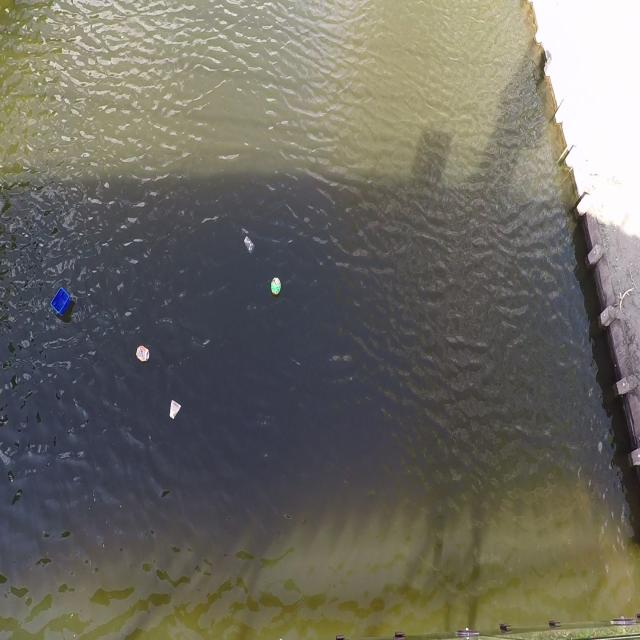Autre plastique: (46, 277, 72, 328), (266, 271, 283, 302)
Non plastique: (130, 341, 154, 368), (166, 397, 184, 427)
